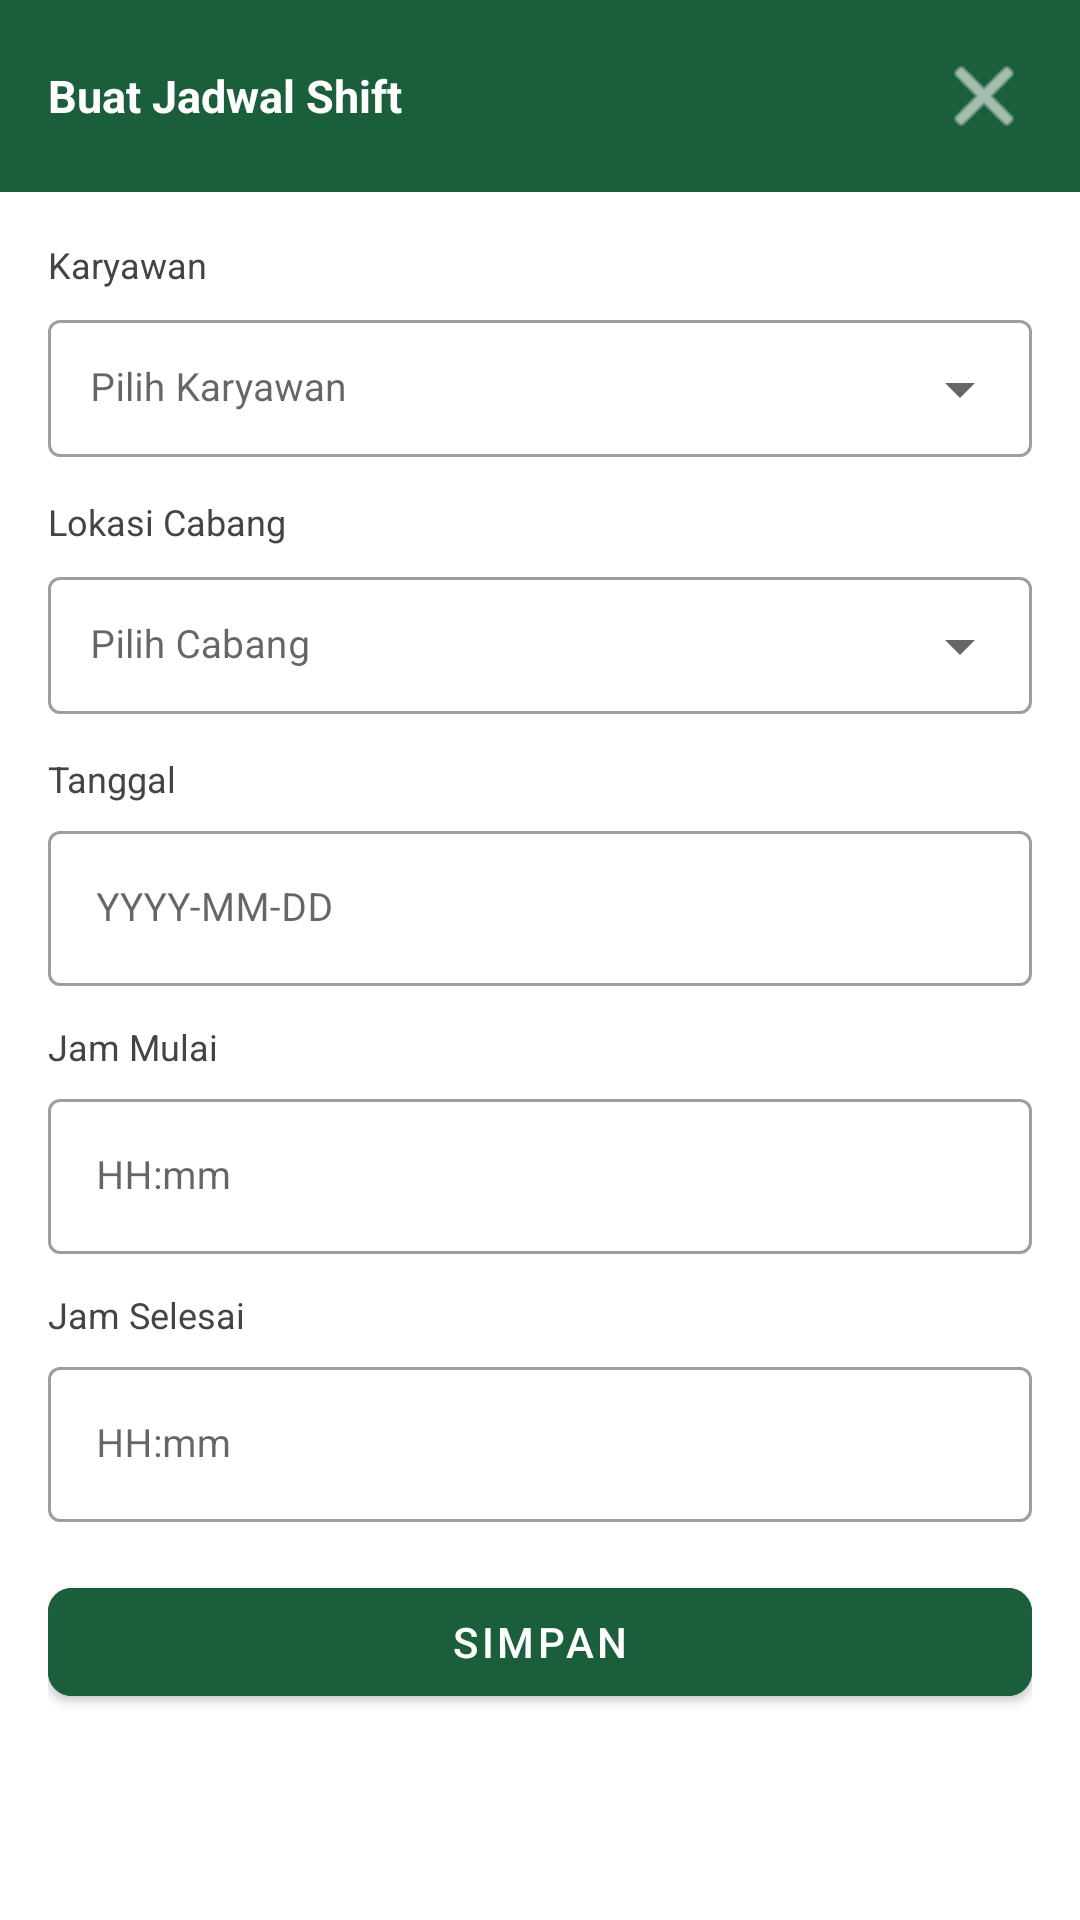

Where icons sit on this 1080 x 1920 app screen, as [x1, y1, x2, y2]:
close clear cancel: [954, 66, 1014, 126]
